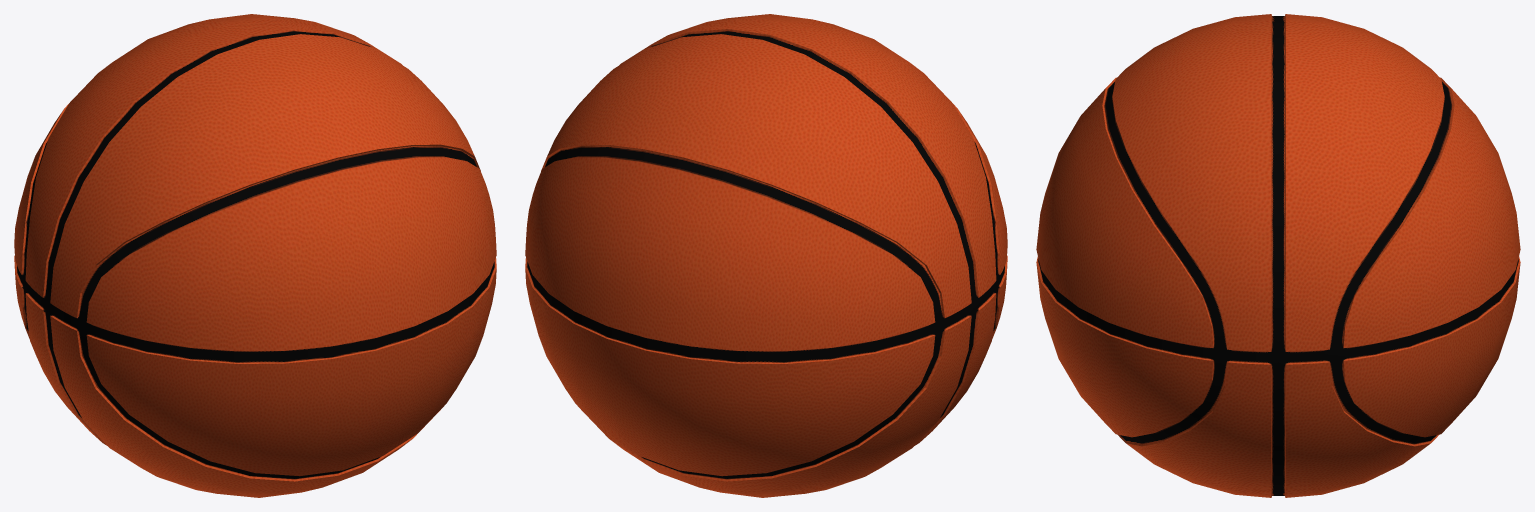
The model's file is Basketball_fbx.FBX.
3 renders of one model, left to right at view 1: azimuth 30°, elevation 25°; view 2: azimuth 150°, elevation 25°; view 3: azimuth 270°, elevation 25°, orthographic.
Parts seen in each view (by area): view 1: Basketball; view 2: Basketball; view 3: Basketball.
Part boxes in pixels (x1,y1,x2,y2): Basketball: (14, 14, 496, 497); Basketball: (525, 14, 1007, 497); Basketball: (1036, 14, 1520, 497).
Size of the model in its own units: 23.31 by 23.33 by 23.33.
